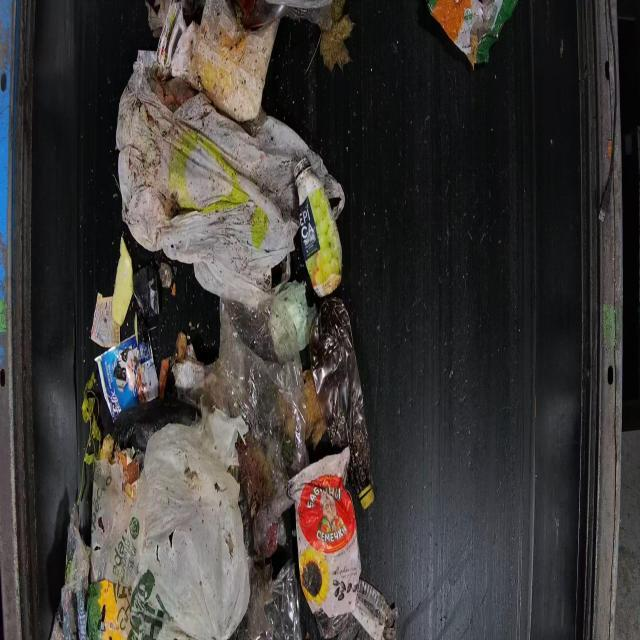bottles: (291, 156, 343, 298)
other-trash: (48, 1, 397, 638)
